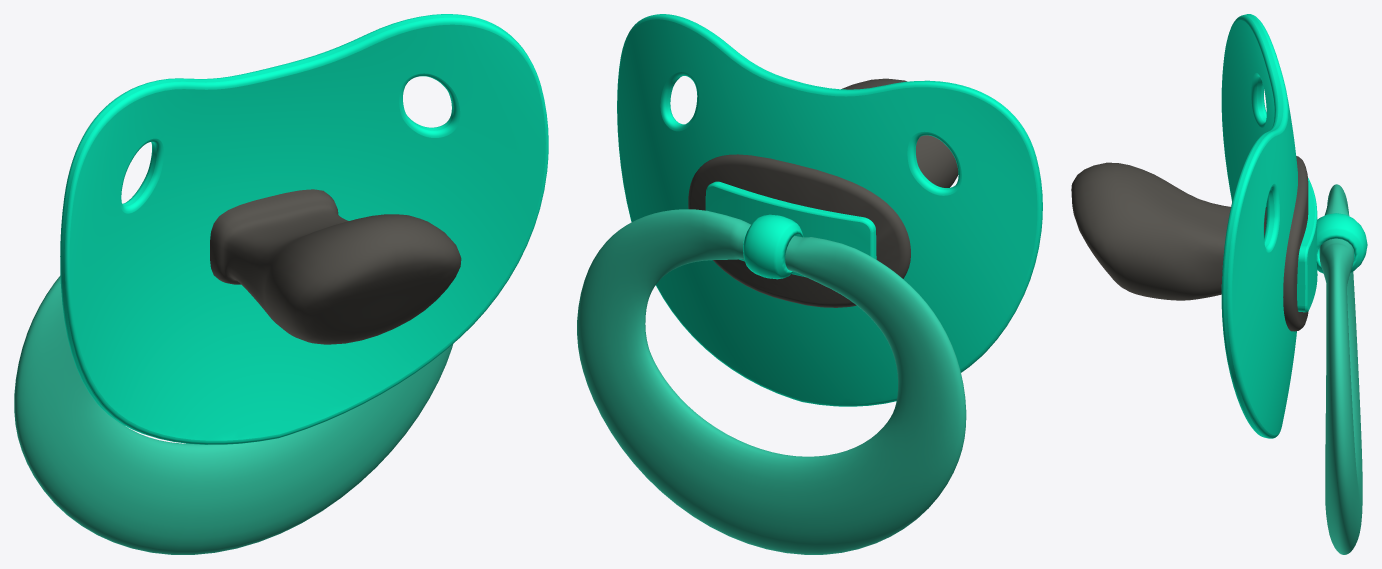
Rendered from pacifier.fbx.
The picture shows the model from 3 angles, left to right: view 1: azimuth 30°, elevation 25°; view 2: azimuth 150°, elevation 25°; view 3: azimuth 270°, elevation 25°; orthographic projection. The views are drawn at different scales.
Parts seen in each view (by area): view 1: Pacifier; view 2: Pacifier; view 3: Pacifier.
Boxes of the visible parts, bbox=[...] form: Pacifier: bbox=[14, 14, 548, 554]; Pacifier: bbox=[577, 14, 1042, 554]; Pacifier: bbox=[1071, 14, 1367, 554].
Size of the model in its own units: 17.05 by 17.87 by 10.67.
